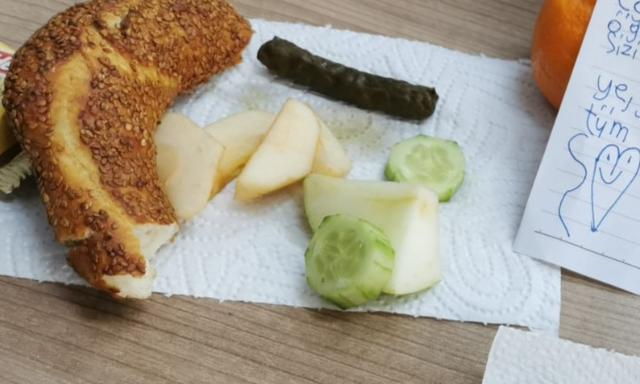Kagit: (509, 3, 640, 310)
Organik: (1, 0, 249, 305), (203, 111, 477, 324), (248, 30, 444, 127)
